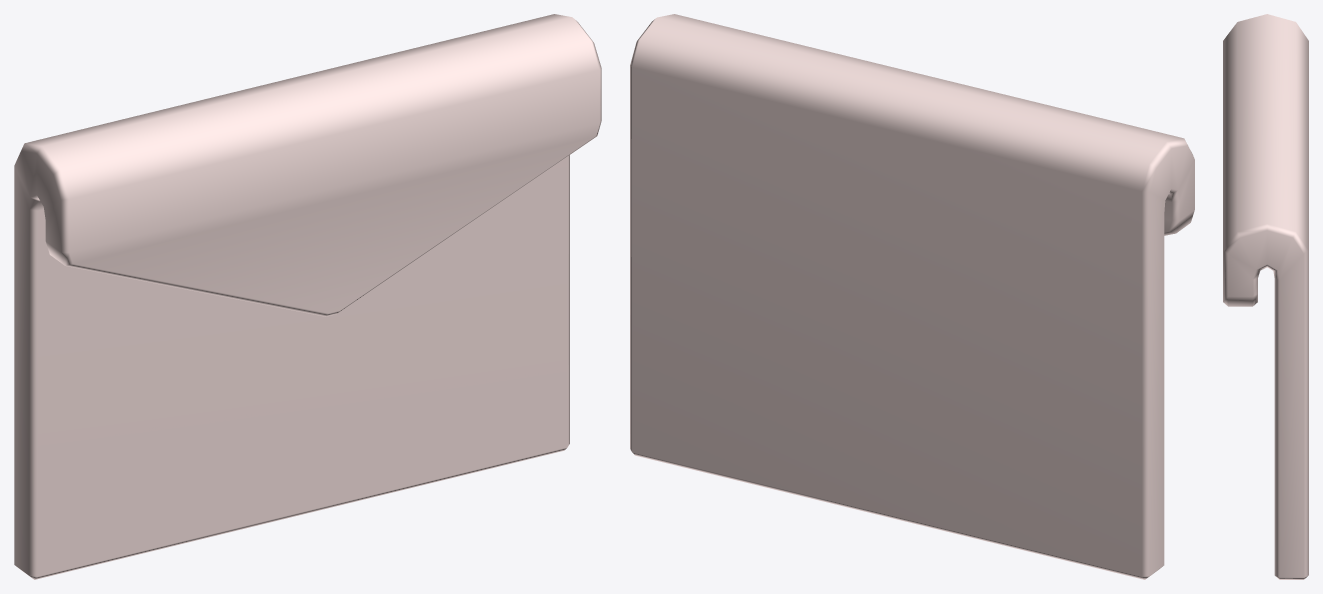
The model's file is Town_7_Letter_1.glb.
3 renders of one model, left to right at view 1: azimuth 30°, elevation 25°; view 2: azimuth 150°, elevation 25°; view 3: azimuth 270°, elevation 25°, orthographic. The views are drawn at different scales.
Visible parts, largest first — view 1: Town_7_Letter_1; view 2: Town_7_Letter_1; view 3: Town_7_Letter_1.
Part boxes in pixels (x1,y1,x2,y2): Town_7_Letter_1: [14, 14, 601, 579]; Town_7_Letter_1: [630, 14, 1194, 579]; Town_7_Letter_1: [1223, 14, 1308, 579].
Bounding box in the file's own units: 0.2589 × 0.2009 × 0.0438.
Materials: 1 (1 with a texture image).
